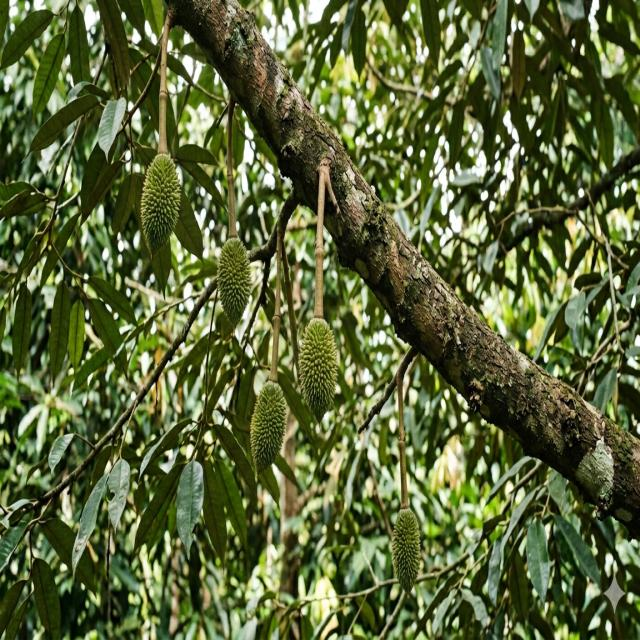immature: (297, 316, 339, 420), (140, 152, 182, 253), (250, 379, 288, 476), (215, 236, 254, 323), (390, 507, 422, 592)
